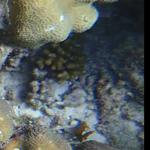alive: (1, 3, 142, 146)
